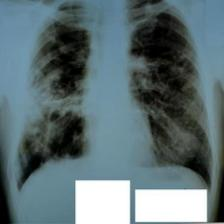tuberculosis: (9, 1, 216, 195)
